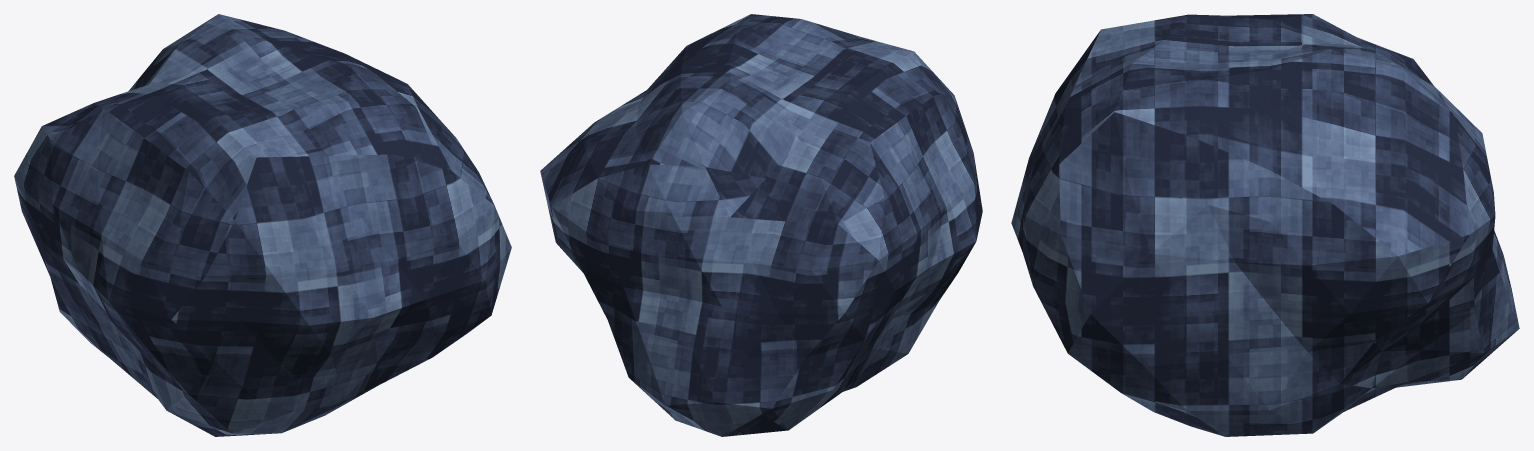
File: asteroid_1.glb
3 renders of one model, left to right at view 1: azimuth 30°, elevation 25°; view 2: azimuth 150°, elevation 25°; view 3: azimuth 270°, elevation 25°, orthographic. The views are drawn at different scales.
Parts seen in each view (by area): view 1: asteroid_1; view 2: asteroid_1; view 3: asteroid_1.
Part boxes in pixels (x1,y1,x2,y2): asteroid_1: [14, 14, 511, 436]; asteroid_1: [540, 14, 982, 436]; asteroid_1: [1011, 14, 1519, 436].
Size of the model in its own units: 2.03 by 1.79 by 2.3.
Materials: 1 (1 with a texture image).
